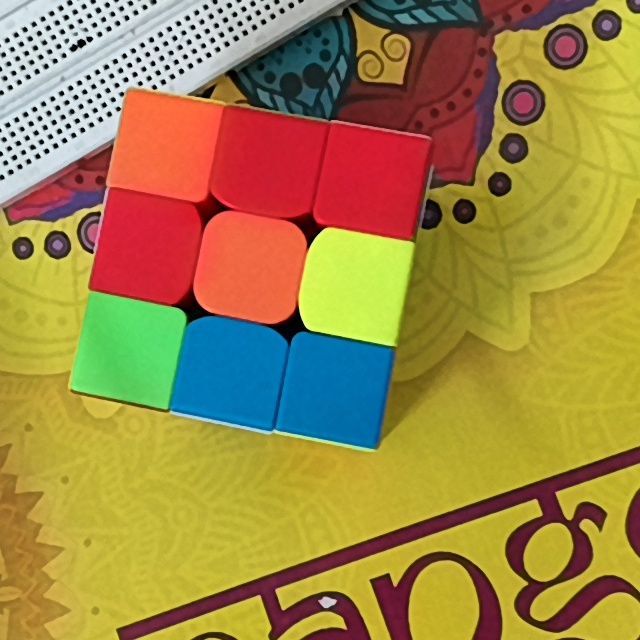tile: (294, 346, 380, 428), (125, 102, 206, 188), (222, 124, 310, 202), (330, 139, 416, 218), (184, 333, 273, 407), (107, 206, 189, 286), (86, 315, 169, 393), (207, 231, 293, 306), (317, 245, 395, 325)
